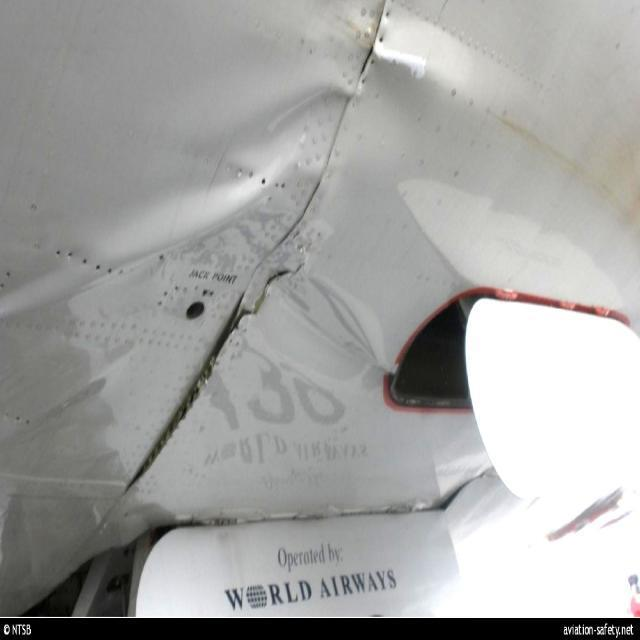crack: (231, 256, 307, 339)
dent: (1, 158, 287, 313), (246, 86, 355, 170)
